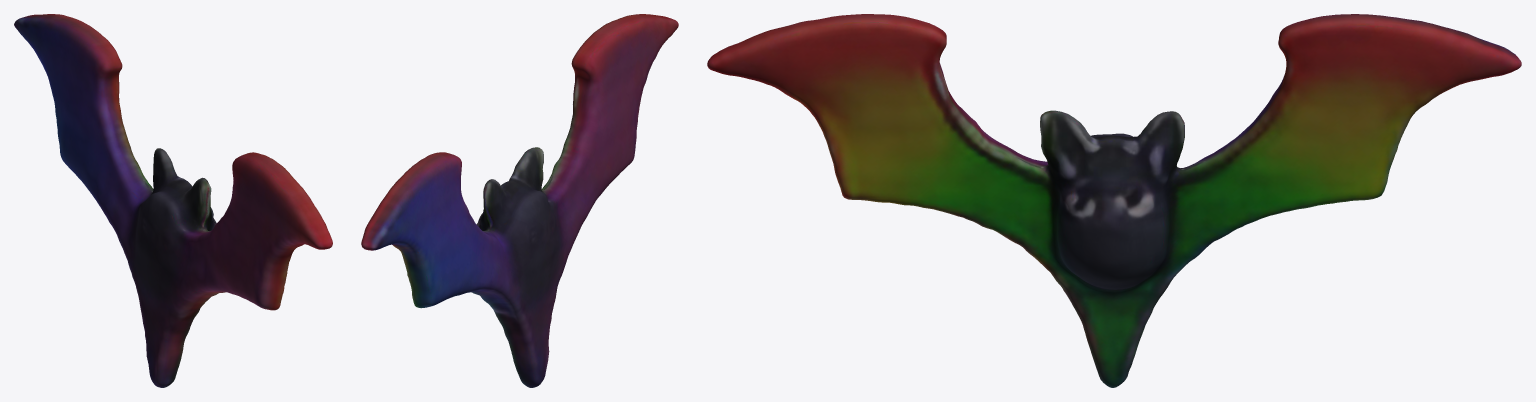
The model's file is d937229a49eb_rainbow_bat__3d_ass.fbx.
The picture shows the model from 3 angles, left to right: view 1: azimuth 30°, elevation 25°; view 2: azimuth 150°, elevation 25°; view 3: azimuth 270°, elevation 25°; orthographic projection. The views are drawn at different scales.
Parts seen in each view (by area): view 1: mesh; view 2: mesh; view 3: mesh.
Part boxes in pixels (bbox=[...]): mesh: bbox=[14, 14, 332, 387]; mesh: bbox=[361, 14, 678, 387]; mesh: bbox=[707, 14, 1521, 387].
Size of the model in its own units: 12.29 by 51.43 by 99.82.
